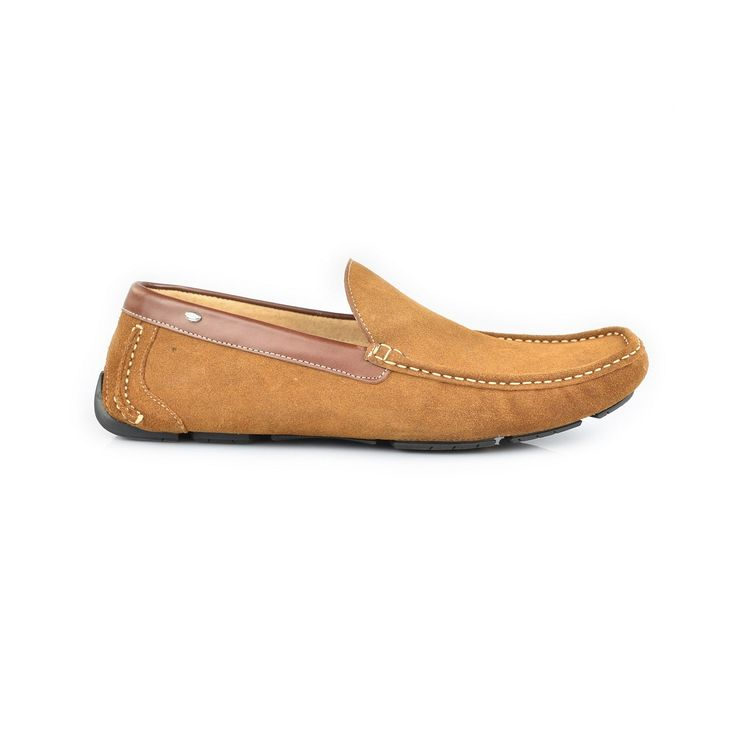gamuza: (102, 258, 648, 443)
